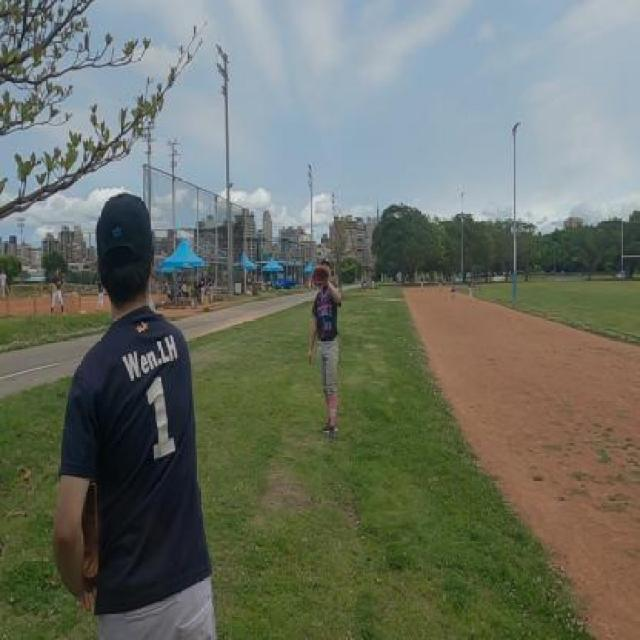baseball: (298, 223, 304, 234)
